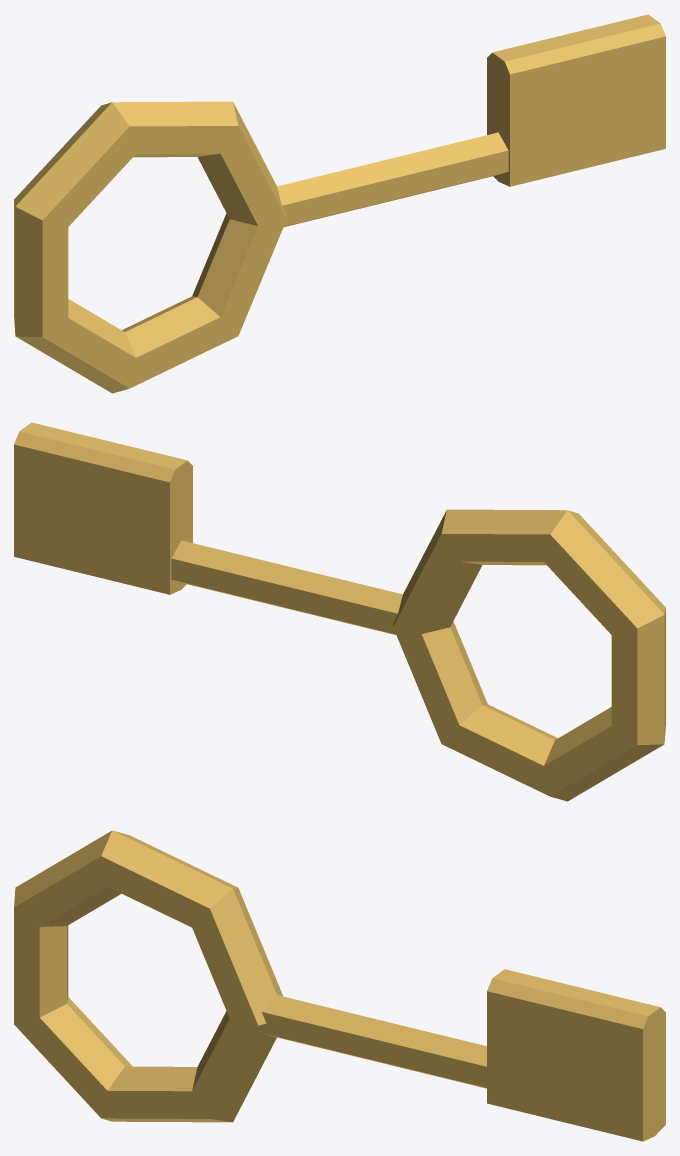
The model's file is Key.fbx.
3 renders of one model, top to bottom at view 1: azimuth 30°, elevation 25°; view 2: azimuth 150°, elevation 25°; view 3: azimuth 330°, elevation 25°, orthographic.
Visible parts, largest first — view 1: Key; view 2: Key; view 3: Key.
Boxes of the visible parts, bbox=[...] form: Key: bbox=[14, 14, 665, 393]; Key: bbox=[14, 422, 665, 801]; Key: bbox=[14, 830, 665, 1141].
Bounding box in the file's own units: 129 × 56.3 × 10.
